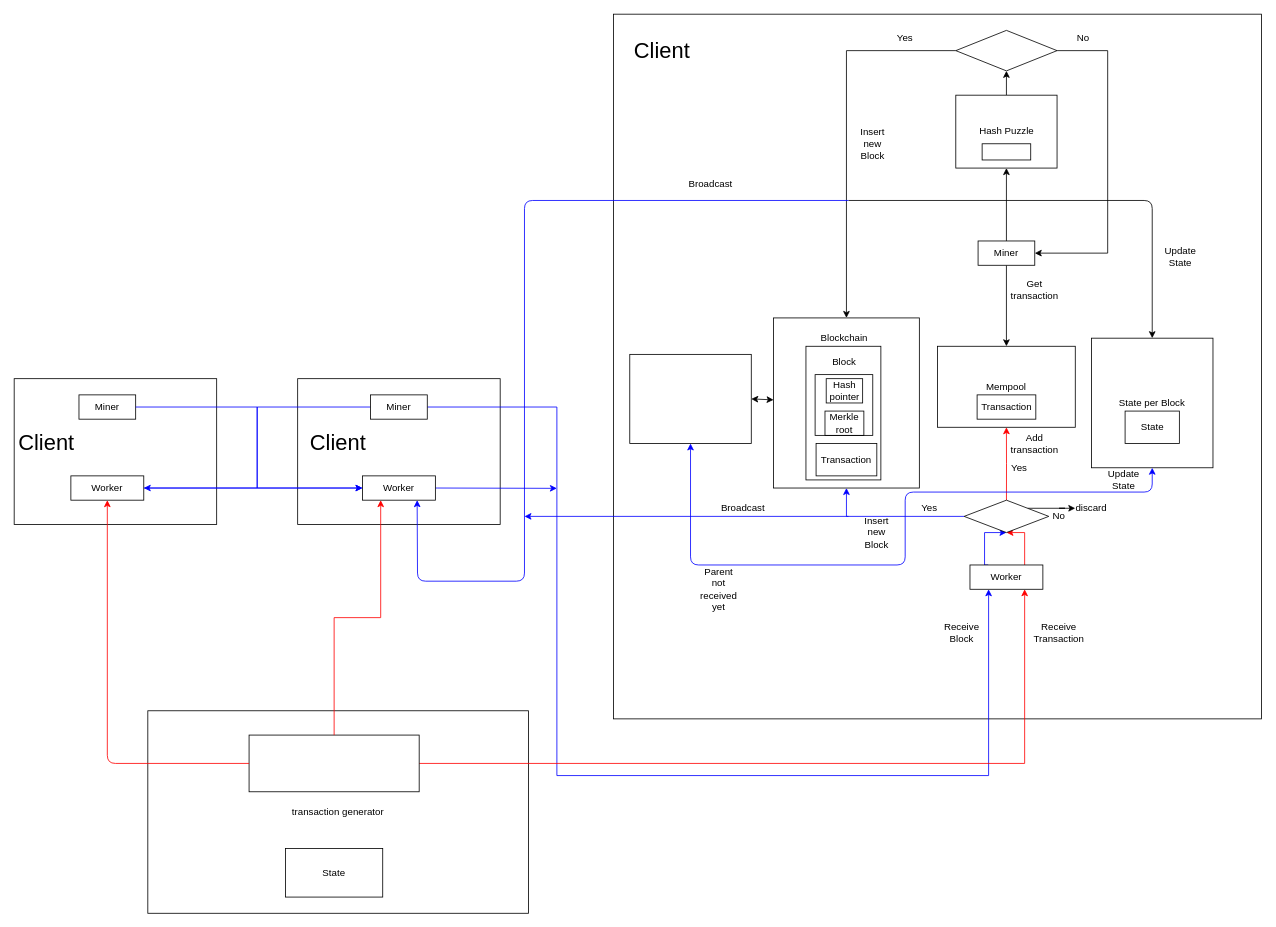
The diagram is 1276 pixels wide and 927 high, and some of its shapes have lost their labels. The centre of each missing label's shape, as x and y in pixels:
"difficulty" belongs at point (1006, 151).
"orphan block pool" belongs at point (690, 398).
"Random transaction generator" belongs at point (333, 763).
"Success?" belongs at point (1006, 50).
"valid?" belongs at point (1006, 516).
